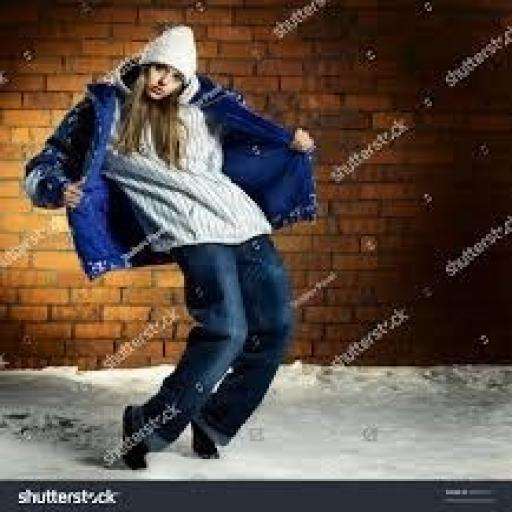dancing: (19, 22, 323, 472)
